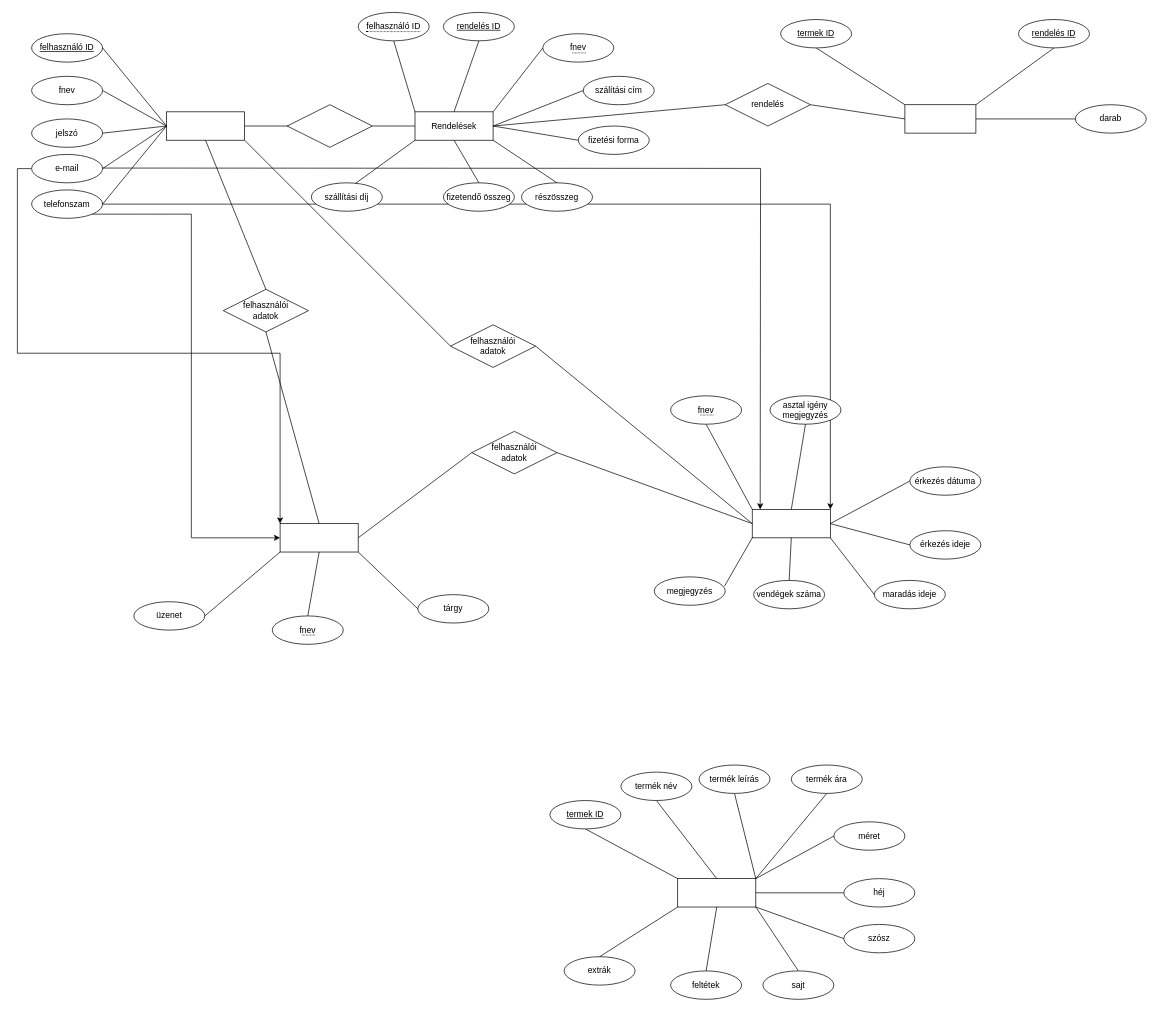
Some shapes in this 1159 by 1012 pixel diagram are drawn without their labels. The shapes that lost their labels are listed below. From the top down, each one's centre as x and y in pixels, then its label:
(x=205, y=125): Felhasználók
(x=329, y=125): felhasználó
(x=940, y=118): Rendelés elemei
(x=318, y=537): Kapcsolat
(x=791, y=523): Asztal foglalások
(x=716, y=892): Pizza
